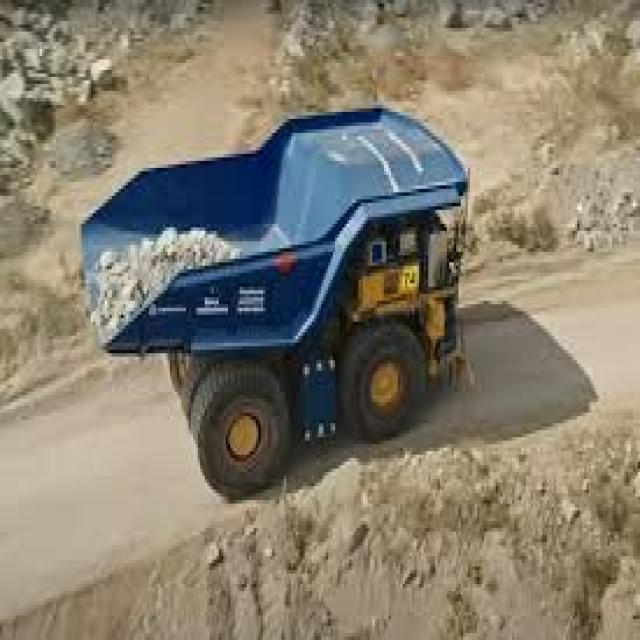dump_truck: (72, 91, 494, 476)
